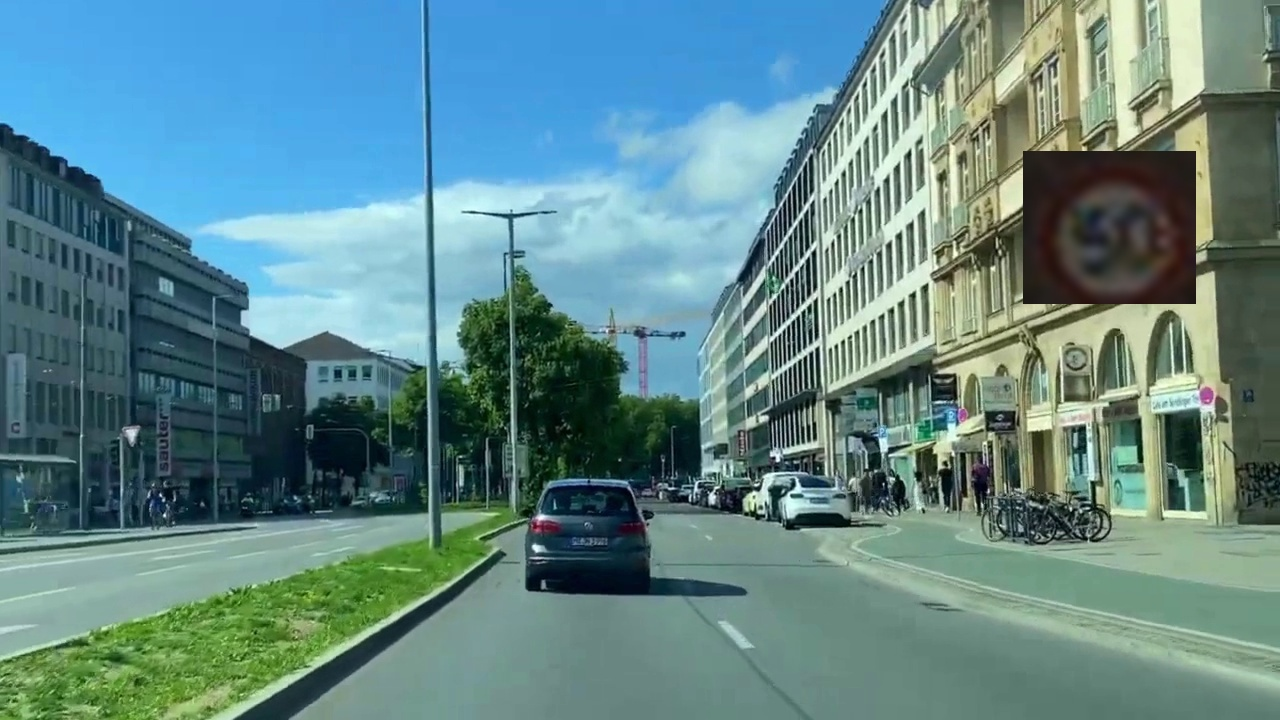Speed 50: (1023, 151, 1196, 304)
